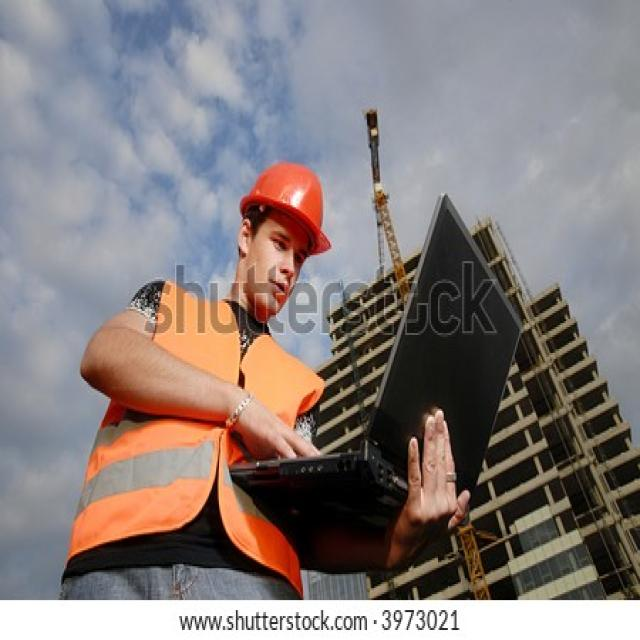helmet: (250, 161, 332, 260)
no-goggles: (238, 216, 324, 270)
vest: (151, 278, 310, 553)
